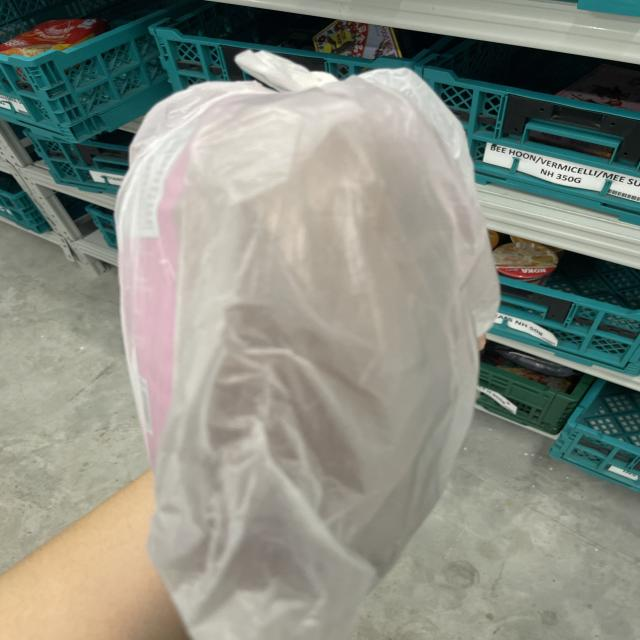object_name: (157, 110, 449, 600)
